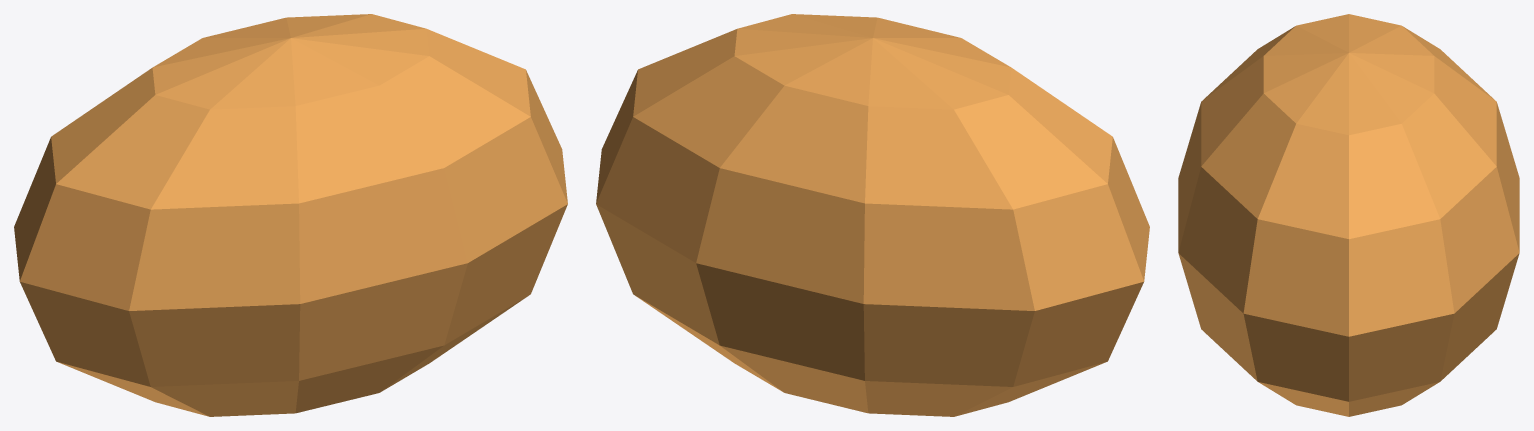
Rendered from supermarket-operations-lemon-ef62941e.glb.
3 renders of one model, left to right at view 1: azimuth 30°, elevation 25°; view 2: azimuth 150°, elevation 25°; view 3: azimuth 270°, elevation 25°, orthographic. The views are drawn at different scales.
Parts seen in each view (by area): view 1: lemon; view 2: lemon; view 3: lemon.
Boxes of the visible parts, x1,y1,x2,y2 form: lemon: (14, 14, 567, 416); lemon: (596, 14, 1149, 416); lemon: (1178, 14, 1519, 416).
Size of the model in its own units: 0.112 by 0.07 by 0.0666.
